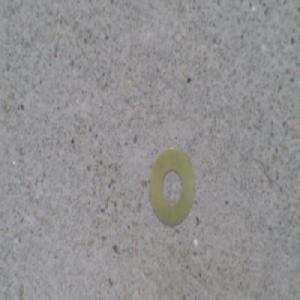Washer: (148, 144, 195, 229)
